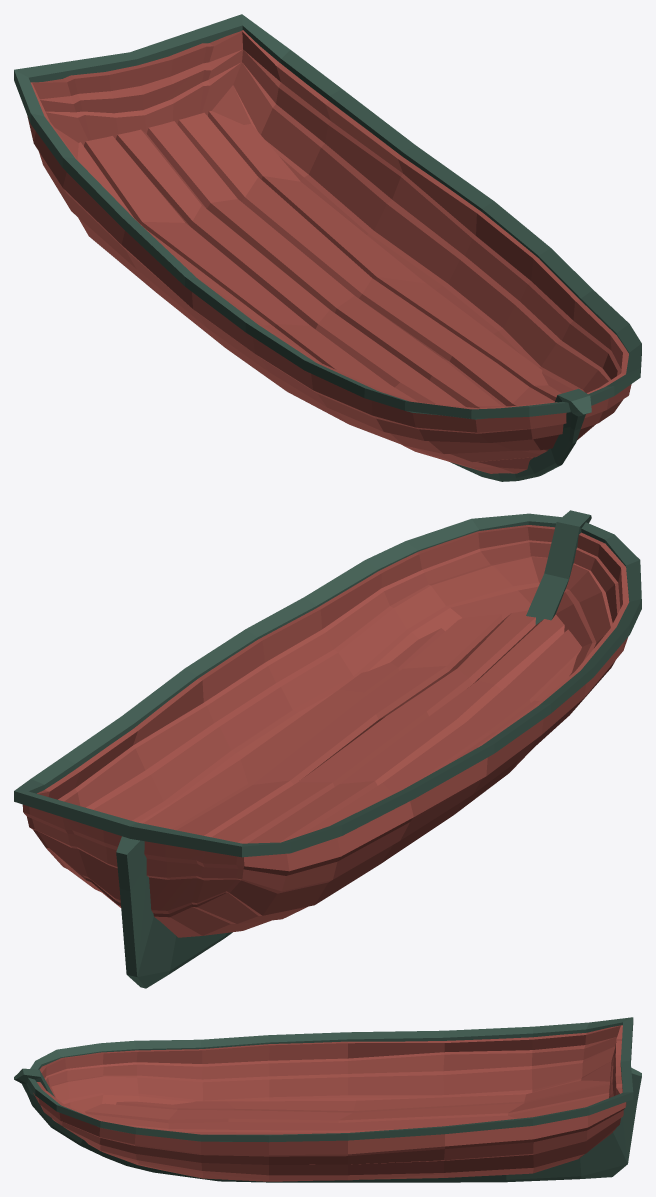
Rendered from boat.fbx.
The picture shows the model from 3 angles, top to bottom: view 1: azimuth 30°, elevation 25°; view 2: azimuth 150°, elevation 25°; view 3: azimuth 270°, elevation 25°; orthographic projection. The views are drawn at different scales.
Parts seen in each view (by area): view 1: SM_Veh_Boat_Rowing_01_Hull; view 2: SM_Veh_Boat_Rowing_01_Hull; view 3: SM_Veh_Boat_Rowing_01_Hull.
Part boxes in pixels (x1,y1,x2,y2): SM_Veh_Boat_Rowing_01_Hull: (14,14,641,481); SM_Veh_Boat_Rowing_01_Hull: (14,510,641,988); SM_Veh_Boat_Rowing_01_Hull: (14,1017,641,1182).
Size of the model in its own units: 793 by 463 by 2069.
